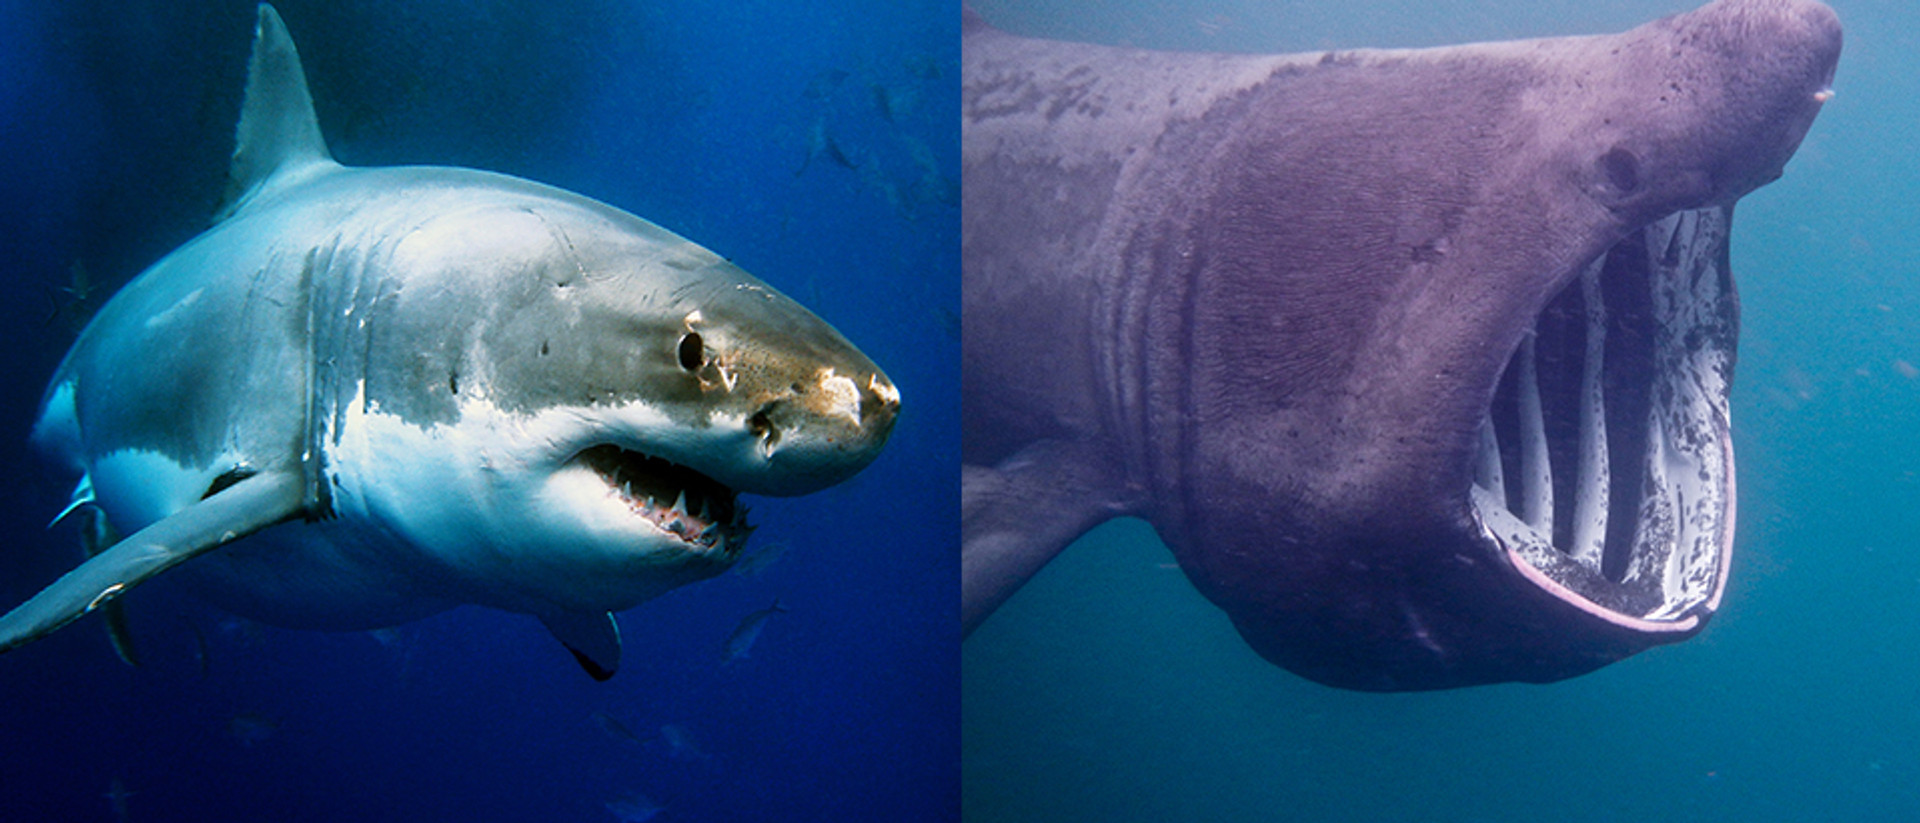Shark: (958, 9, 1834, 691), (13, 2, 885, 672)
